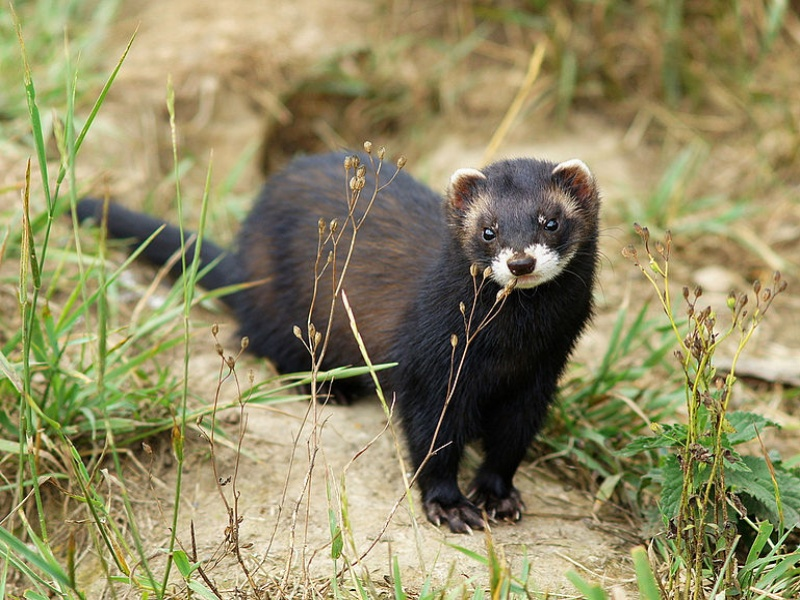minkish: (57, 118, 602, 533)
